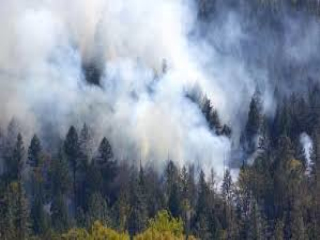smoke: (4, 4, 243, 196), (298, 129, 313, 173)
